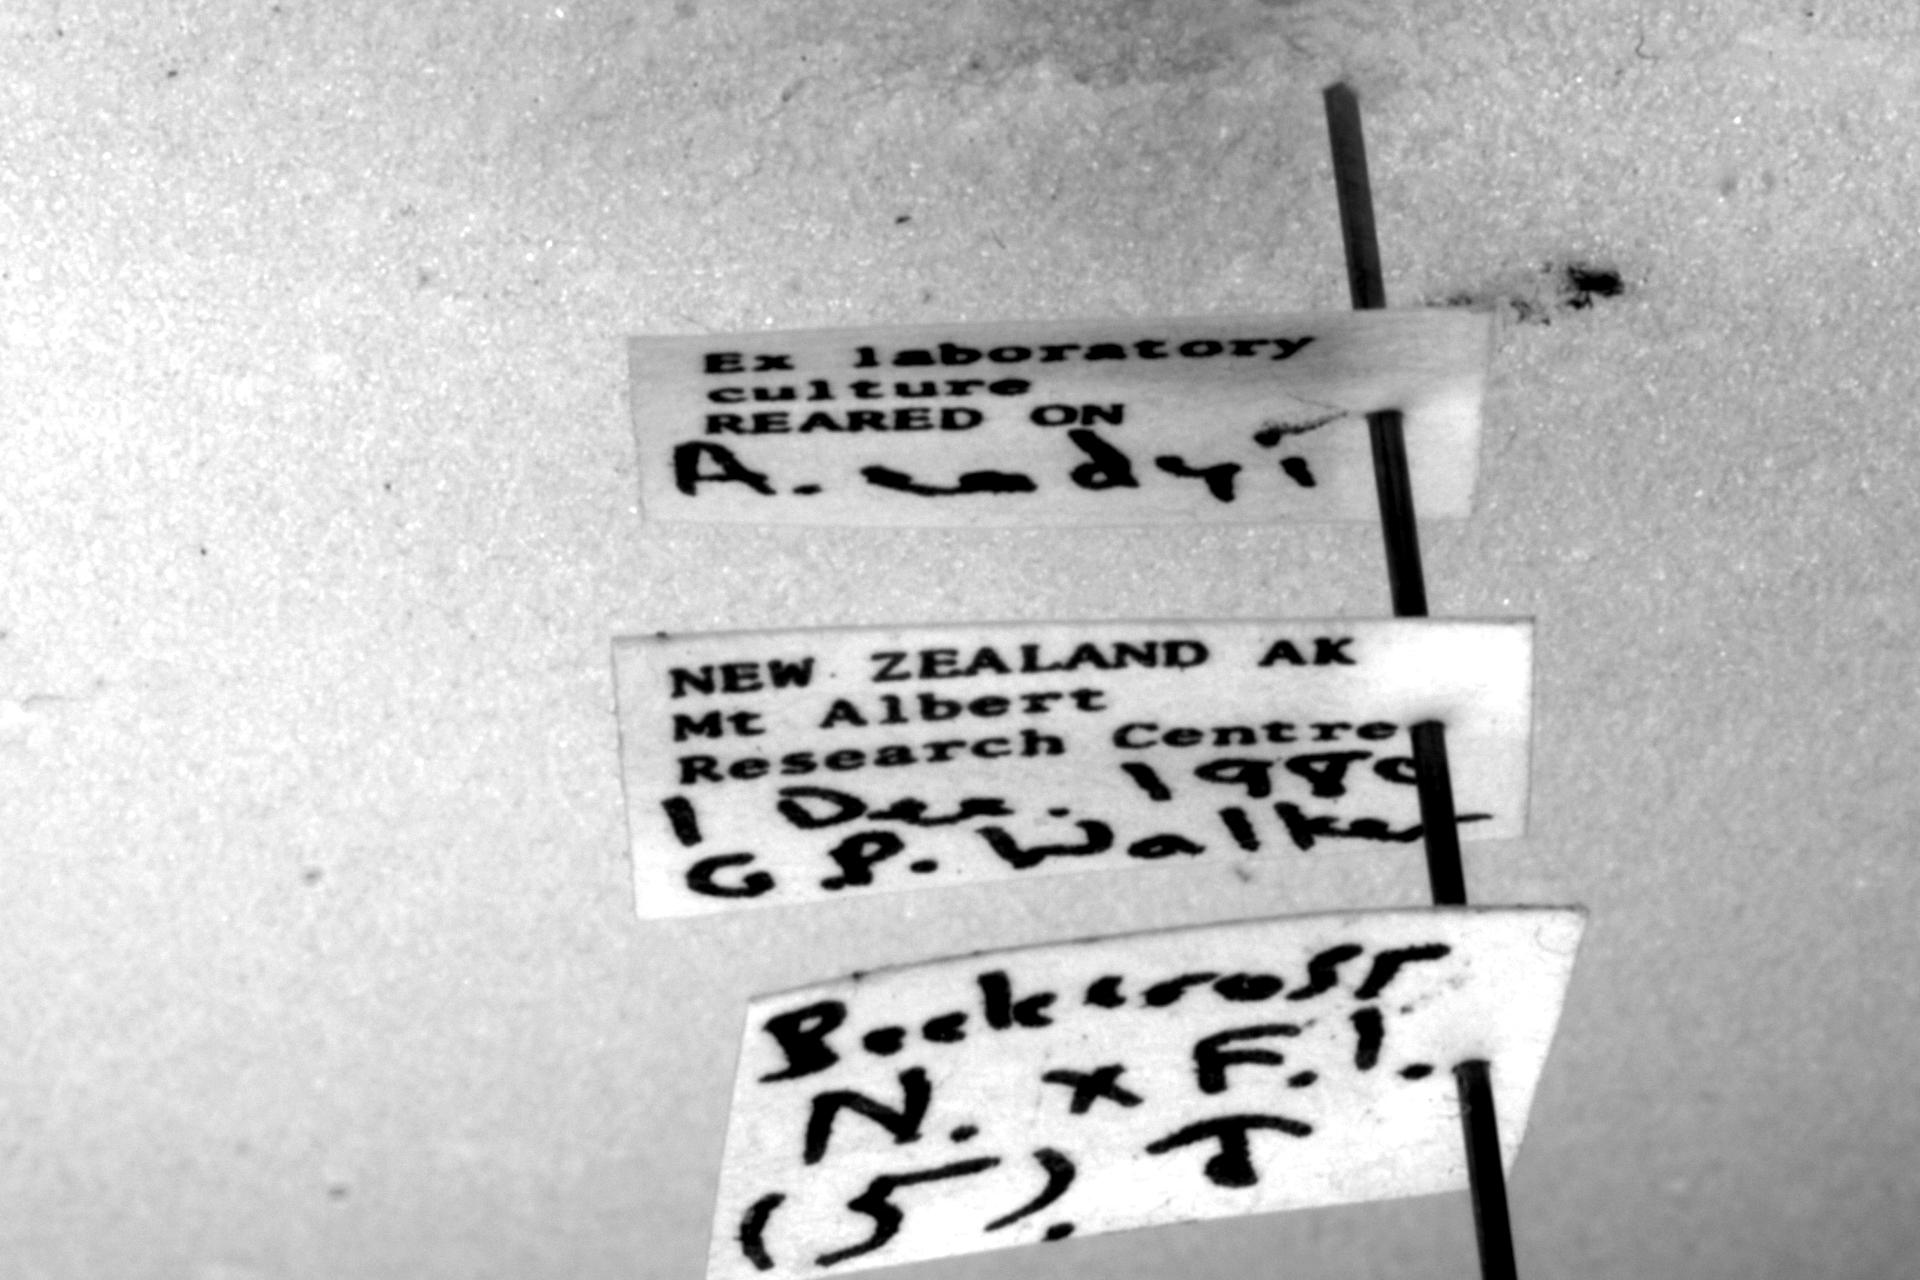hand_label: (709, 908, 1586, 1279)
mixed_label: (615, 619, 1534, 919), (630, 308, 1492, 529)
